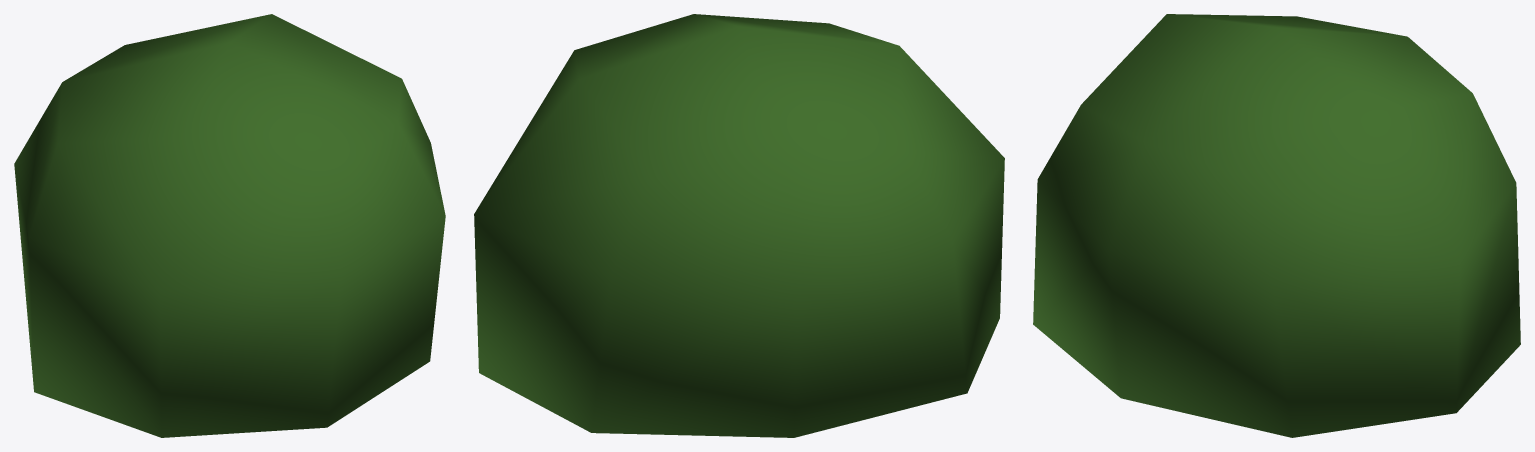
File: VR.fbx_arbusto_oscuro_1.fbx
3 views of the same model, side by side, from view 1: azimuth 30°, elevation 25°; view 2: azimuth 150°, elevation 25°; view 3: azimuth 270°, elevation 25° (orthographic). The views are drawn at different scales.
Parts seen in each view (by area): view 1: arbusto oscuro 1; view 2: arbusto oscuro 1; view 3: arbusto oscuro 1.
Part boxes in pixels (x1,y1,x2,y2): arbusto oscuro 1: [14, 14, 445, 437]; arbusto oscuro 1: [474, 14, 1004, 437]; arbusto oscuro 1: [1033, 14, 1520, 437].
Bounding box in the file's own units: 27.15 × 18.8 × 27.08.
